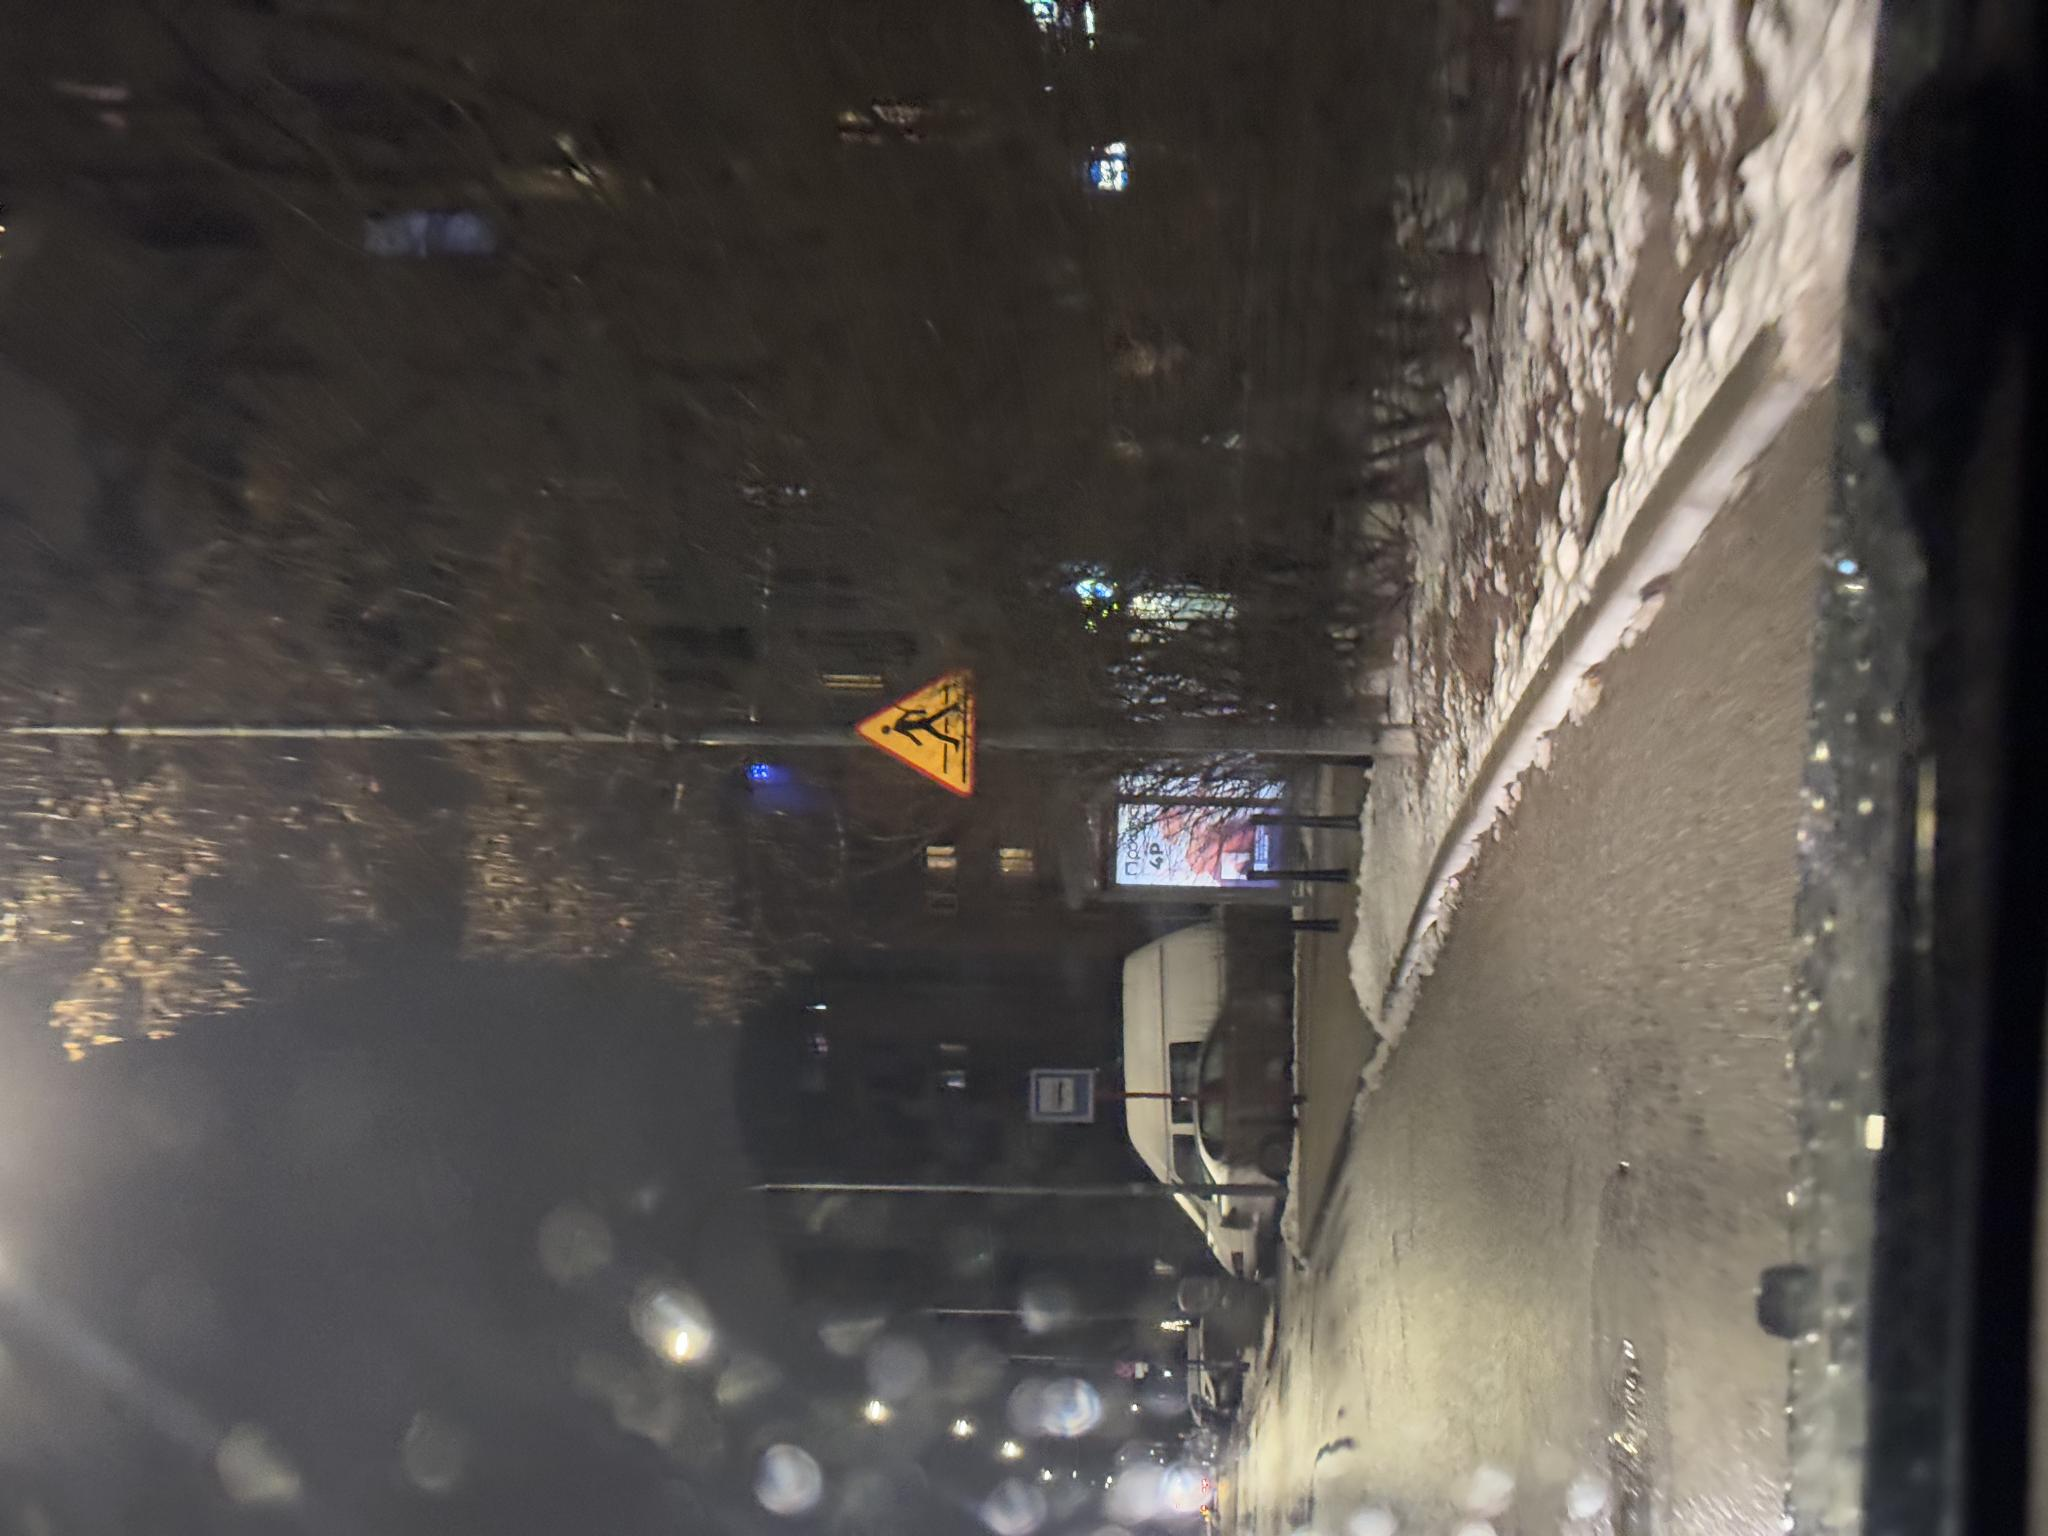warning: (740, 855, 868, 979)
